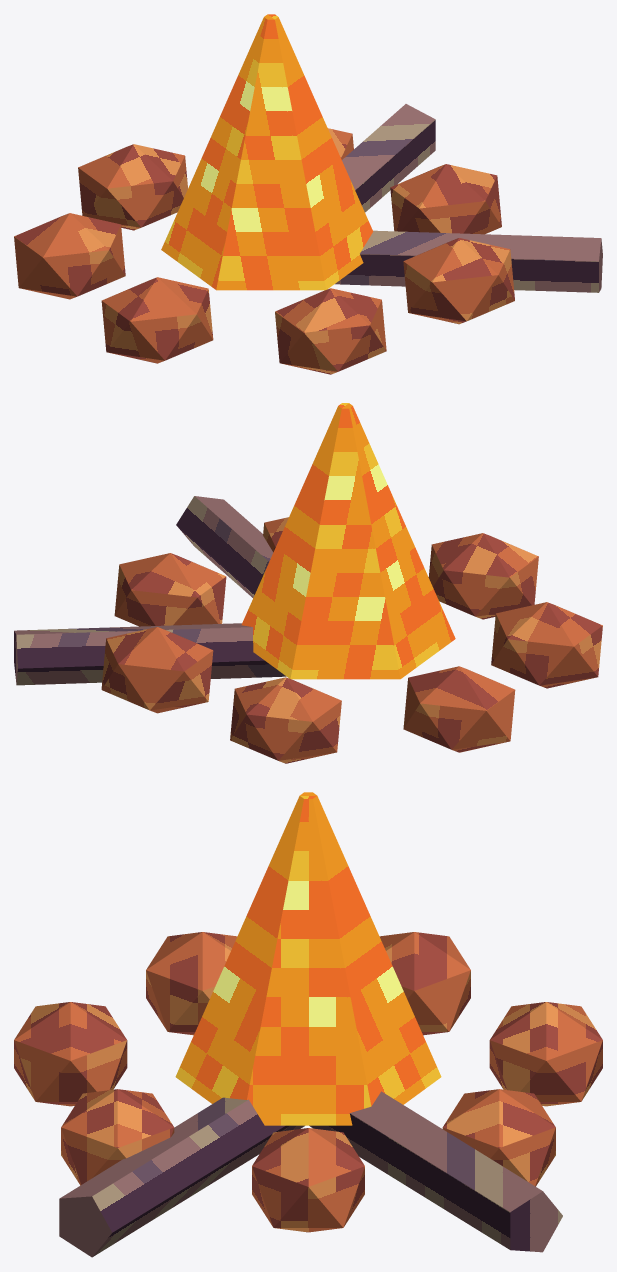
File: nomadas_vento_fogueira.glb
The picture shows the model from 3 angles, top to bottom: view 1: azimuth 30°, elevation 25°; view 2: azimuth 150°, elevation 25°; view 3: azimuth 270°, elevation 25°; orthographic projection. The views are drawn at different scales.
Parts seen in each view (by area): view 1: nomadas_vento_fogueira; view 2: nomadas_vento_fogueira; view 3: nomadas_vento_fogueira.
Part boxes in pixels (left/top/right/bottom): nomadas_vento_fogueira: left=14, top=14, right=602, bottom=374; nomadas_vento_fogueira: left=14, top=403, right=602, bottom=763; nomadas_vento_fogueira: left=14, top=792, right=602, bottom=1257.
Bounding box in the file's own units: 1.44 × 0.83 × 1.33.
Materials: 3 (3 with a texture image).
